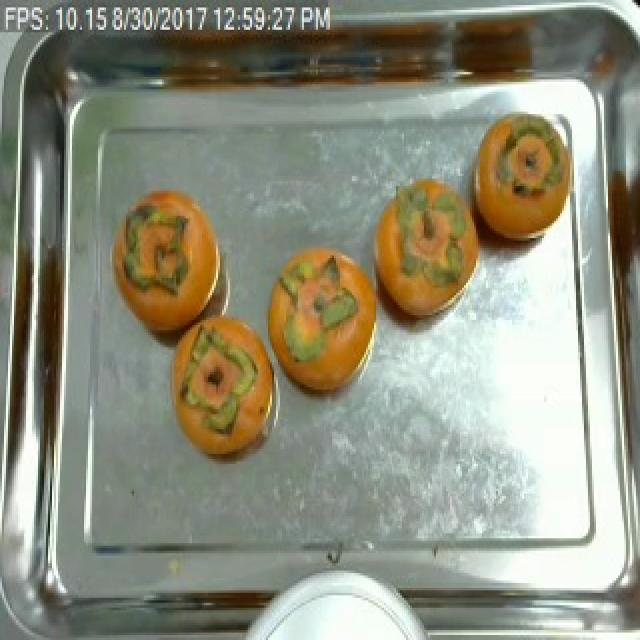Fruit: (262, 233, 382, 419), (372, 161, 494, 330), (164, 300, 282, 471), (458, 97, 572, 268), (114, 183, 228, 335)
